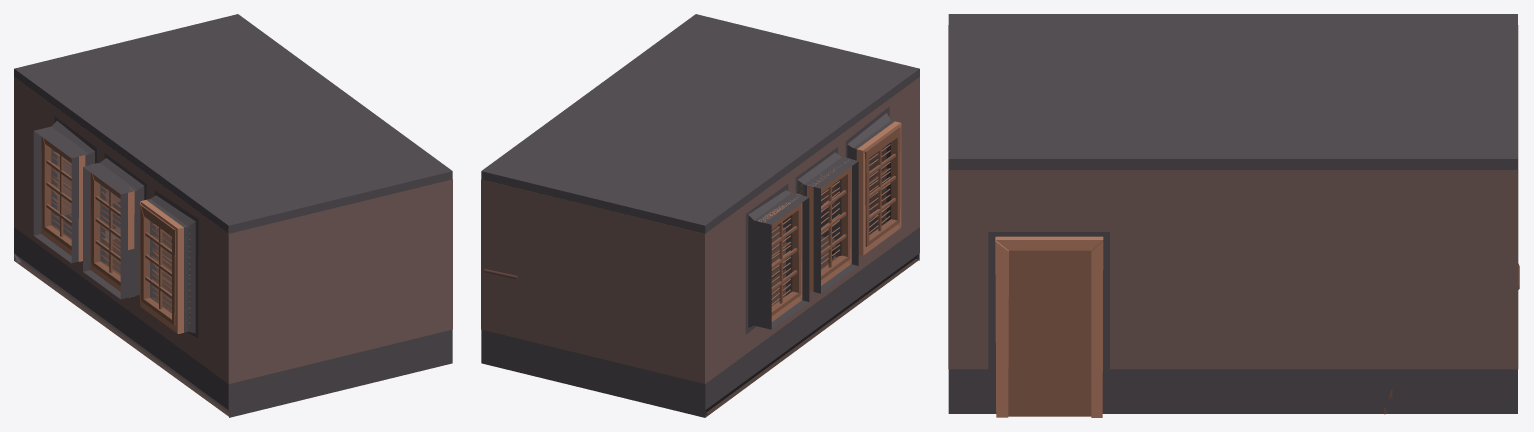
File: room.glb
The picture shows the model from 3 angles, left to right: view 1: azimuth 30°, elevation 25°; view 2: azimuth 150°, elevation 25°; view 3: azimuth 270°, elevation 25°; orthographic projection. The views are drawn at different scales.
Visible parts, largest first — view 1: Plane.022, Plane.023, Plane.015, Plane.026, Plane.019, Plane.292, Plane.018, Plane.017, Plane.016, Plane.020, Plane.025, Plane.638 (+1 smaller); view 2: Plane.022, Plane.023, Plane.015, Plane.026, Plane.019, Plane.292, Plane.017, Plane.018, Plane.016, Plane.020, Plane.025, Plane.638 (+1 smaller); view 3: Plane.023, Plane.022, Plane.019, Plane.529, Plane.534.
Part boxes in pixels (x1,y1,x2,y2): Plane.022: [14, 14, 452, 225]; Plane.023: [57, 153, 452, 383]; Plane.015: [14, 69, 228, 409]; Plane.026: [14, 77, 228, 383]; Plane.019: [14, 171, 452, 417]; Plane.292: [140, 199, 183, 333]; Plane.018: [41, 136, 85, 261]; Plane.017: [90, 163, 134, 297]; Plane.016: [14, 226, 228, 416]; Plane.020: [15, 254, 228, 412]; Plane.025: [151, 223, 190, 323]; Plane.638: [101, 186, 120, 275]; Plane.022: [481, 14, 919, 225]; Plane.023: [481, 146, 886, 383]; Plane.015: [705, 69, 919, 409]; Plane.026: [705, 77, 919, 383]; Plane.019: [481, 171, 919, 417]; Plane.292: [856, 121, 901, 255]; Plane.017: [807, 157, 851, 291]; Plane.018: [758, 193, 802, 327]; Plane.016: [705, 225, 919, 417]; Plane.020: [705, 254, 918, 412]; Plane.025: [869, 144, 890, 233]; Plane.638: [798, 181, 840, 269]; Plane.023: [948, 25, 1518, 369]; Plane.022: [948, 14, 1517, 158]; Plane.019: [948, 159, 1517, 413]; Plane.529: [1008, 250, 1091, 416]; Plane.534: [995, 236, 1103, 417].
Bounding box in the file's own units: 16.35 × 11.87 × 24.04.
